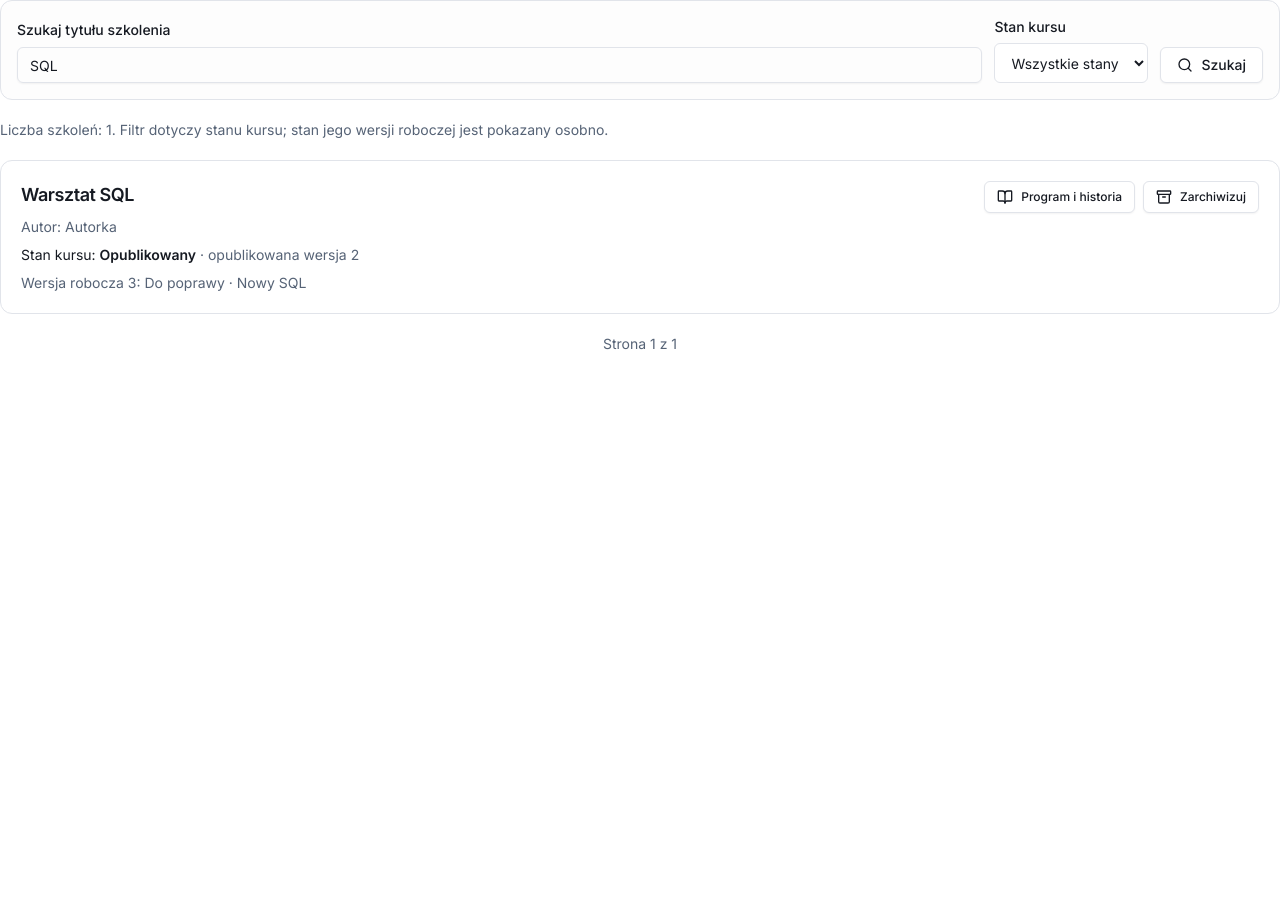
administrator course inventory › explains all consequences and does not archive when confirmation is cancelled
Click the button "Zarchiwizuj" at (1201, 197), box left=1143, top=181, right=1259, bottom=213
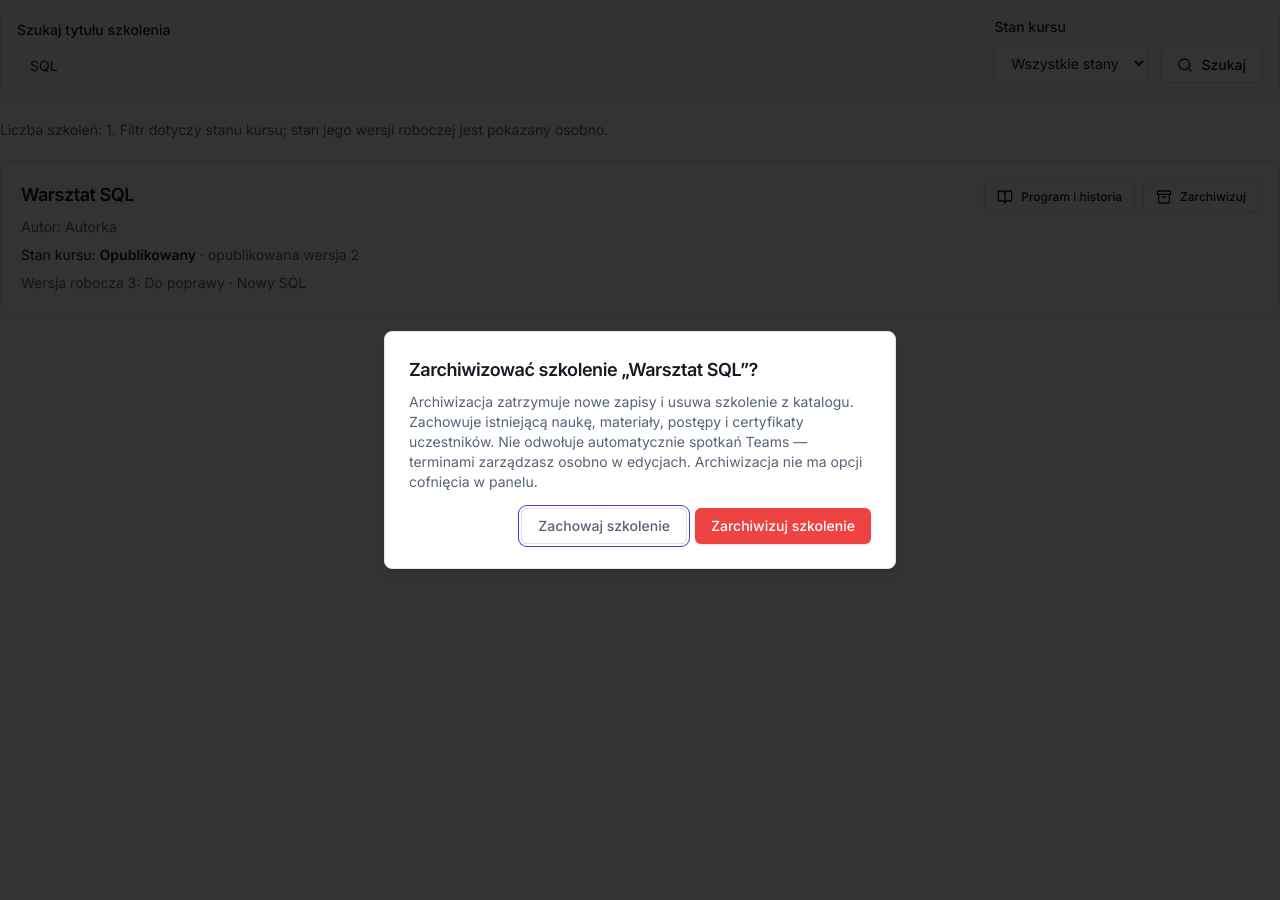
Check: the dialog shows "Archiwizacja zatrzymuje nowe zapisy", box left=409, top=393, right=862, bottom=490
Check: the dialog shows "Zachowuje istniejącą naukę, materiały, postępy i certyfikaty", box left=409, top=393, right=862, bottom=490
Check: the dialog shows "Nie odwołuje automatycznie spotkań Teams", box left=409, top=393, right=862, bottom=490
Click the button "Zachowaj szkolenie" at (604, 526), box left=521, top=508, right=687, bottom=544
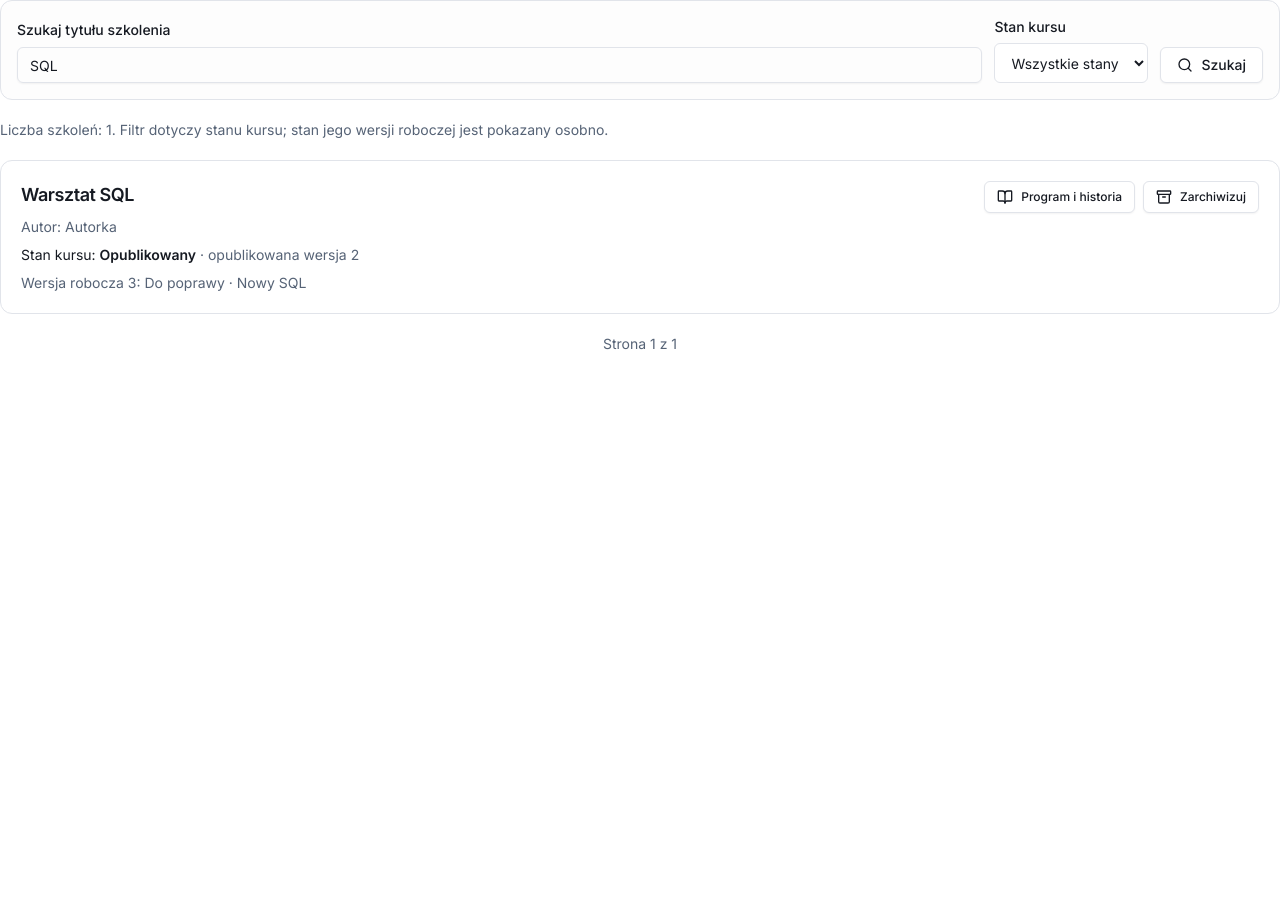
Check: the dialog is gone
